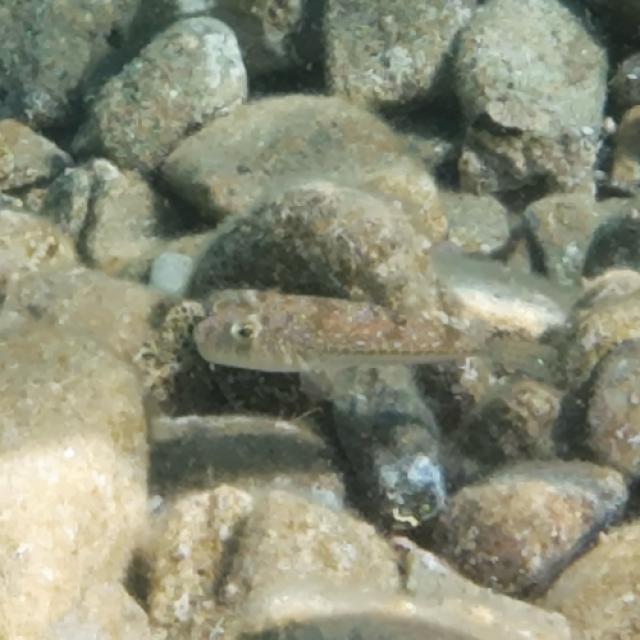Balik: (193, 289, 547, 382)
